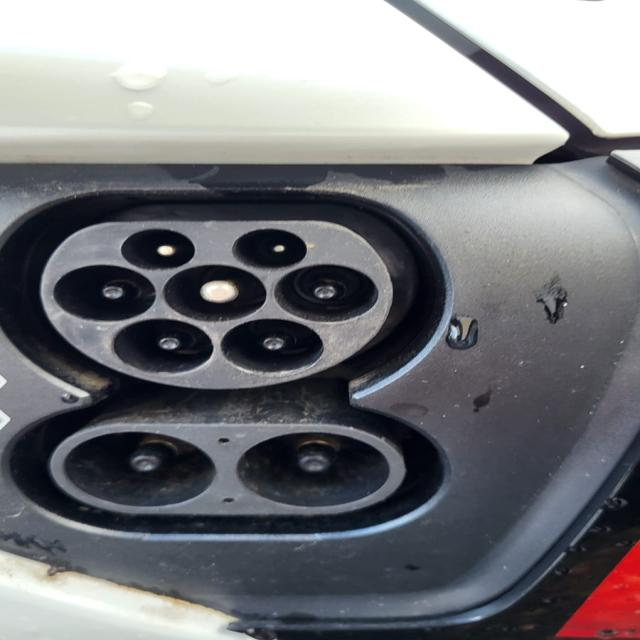inlet: (41, 221, 394, 388)
inlet-above-left: (121, 228, 195, 270)
inlet-above-right: (233, 228, 305, 270)
inlet-below-left: (112, 318, 214, 373)
inlet-below-right: (220, 319, 324, 373)
inlet-circle: (165, 265, 267, 322)
inlet-circle-left: (55, 264, 155, 321)
inlet-circle-right: (273, 263, 380, 323)
inlet-minus: (236, 431, 391, 507)
inlet-plus: (64, 431, 215, 507)
